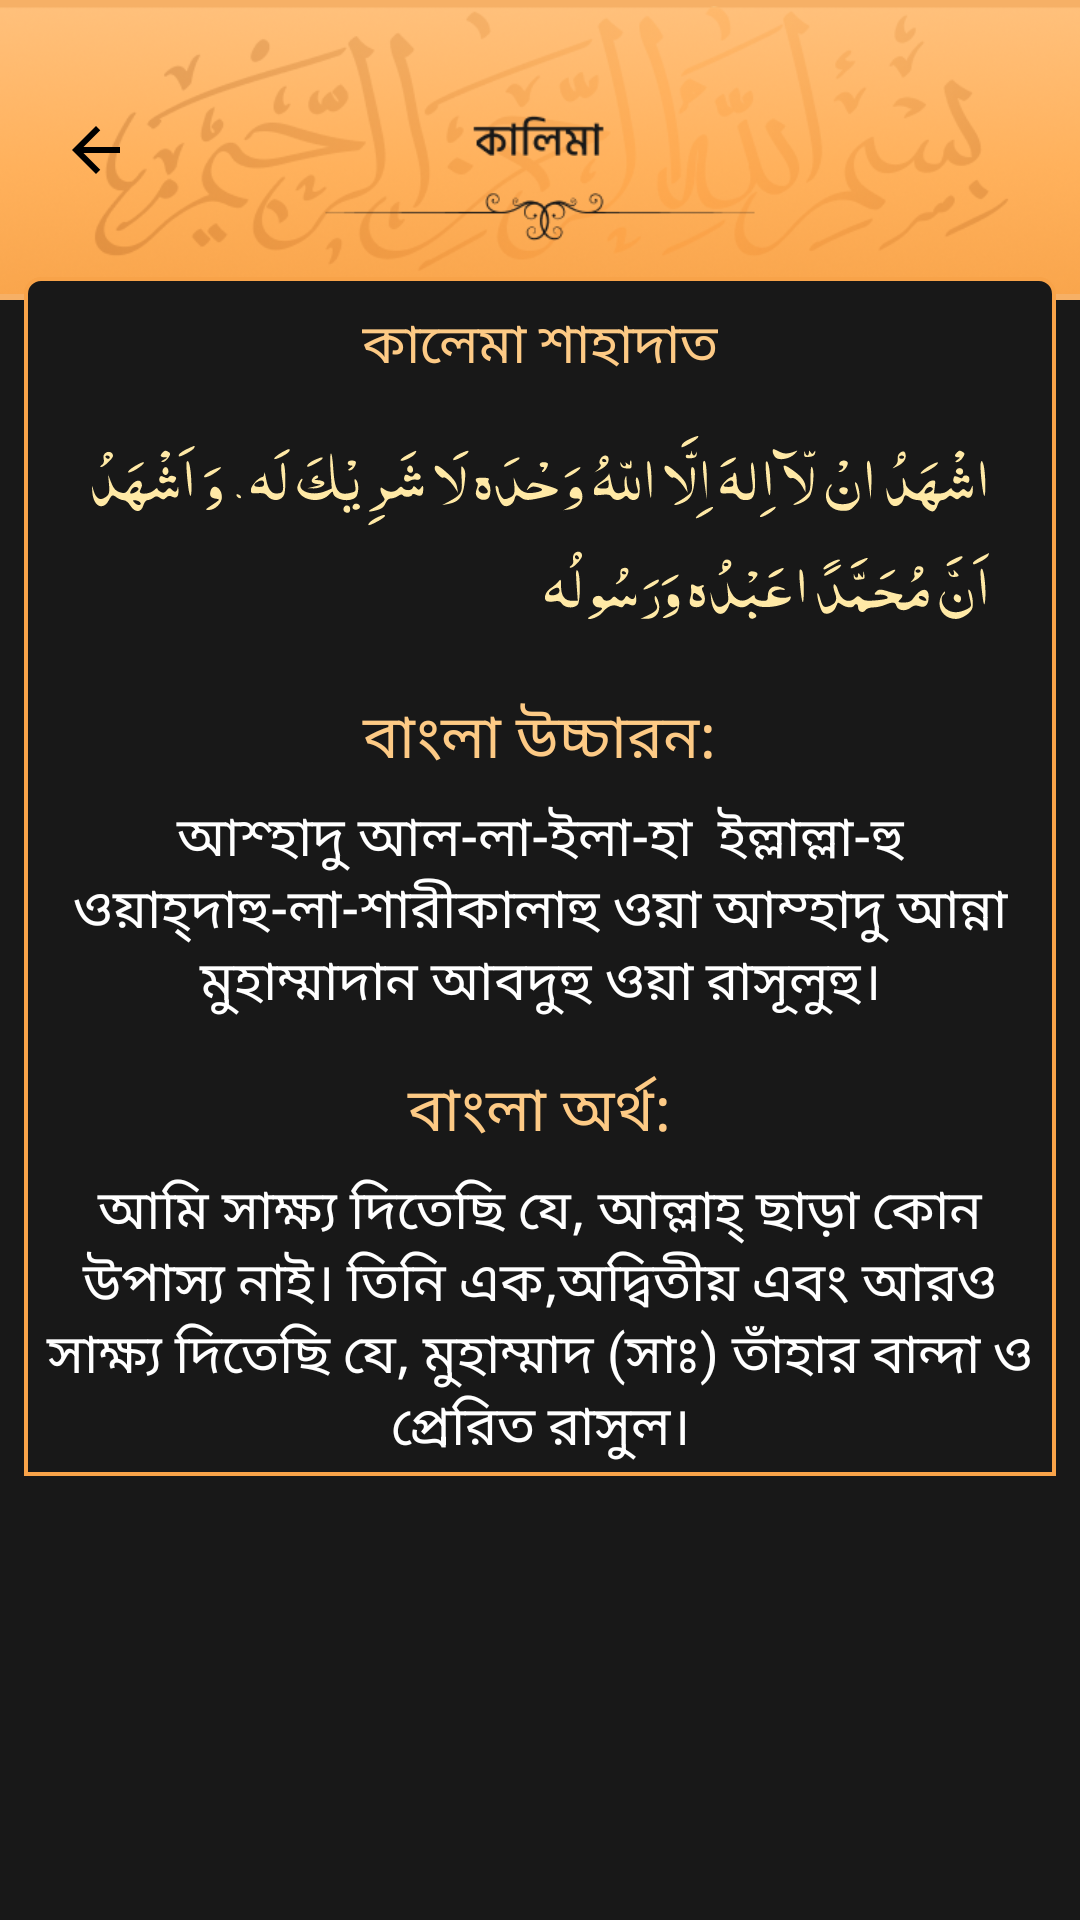

Icon bounding boxes for this 1080×1920 phone screenshot, format [left=x1, top=y1, right=x2, bottom=y2]:
back: [left=72, top=115, right=132, bottom=186]
